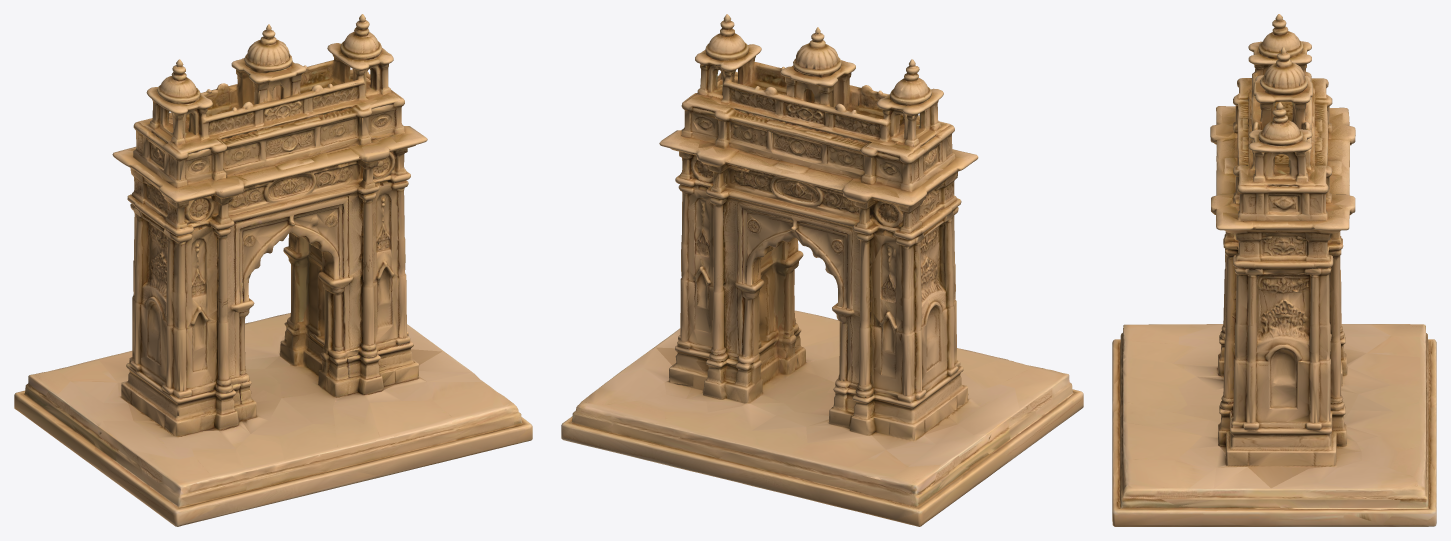
File: Ornate_Sandstone_Gate.glb
3 renders of one model, left to right at view 1: azimuth 30°, elevation 25°; view 2: azimuth 150°, elevation 25°; view 3: azimuth 270°, elevation 25°, orthographic.
Parts seen in each view (by area): view 1: Ornate_Sandstone_Gate; view 2: Ornate_Sandstone_Gate; view 3: Ornate_Sandstone_Gate.
Part boxes in pixels (x1,y1,x2,y2): Ornate_Sandstone_Gate: (14, 14, 532, 526); Ornate_Sandstone_Gate: (561, 14, 1083, 526); Ornate_Sandstone_Gate: (1112, 14, 1436, 526).
Size of the model in its own units: 1.79 by 1.9 by 1.41.
Materials: 1 (1 with a texture image).
